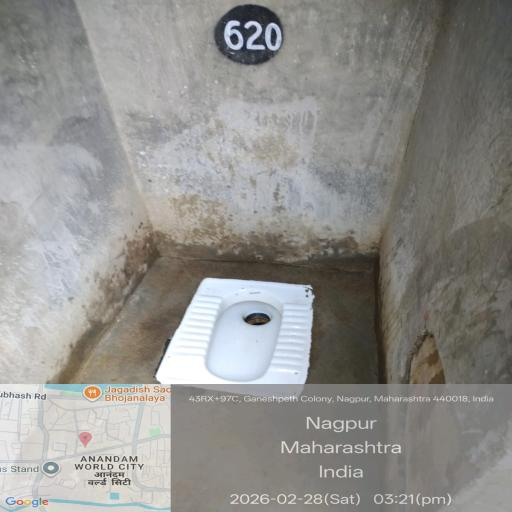clean_floor: (108, 398, 512, 512), (53, 243, 214, 512)
clean_indian: (158, 268, 338, 443)
partial_dirty_floor: (1, 10, 512, 270)
